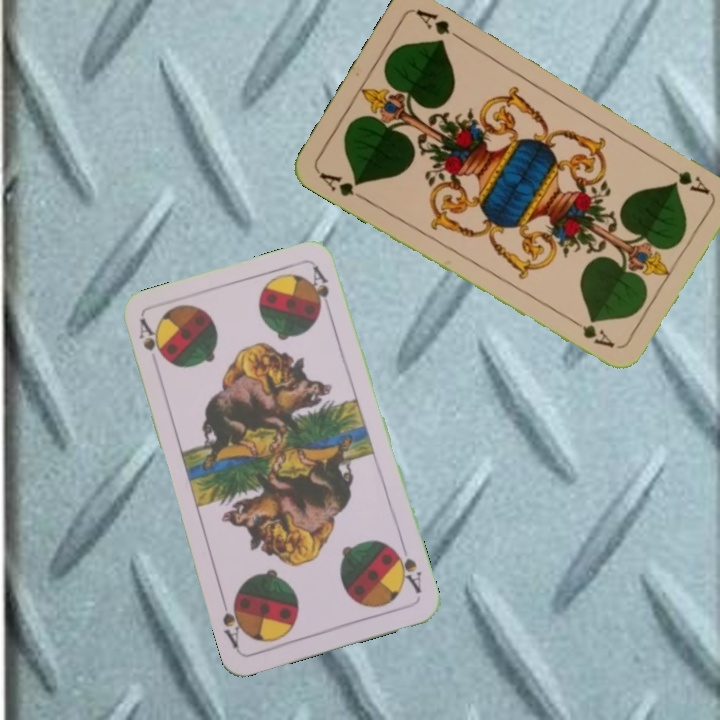GA: (659, 158, 713, 198), (315, 168, 369, 204)
SA: (389, 544, 425, 596), (134, 315, 166, 362)
